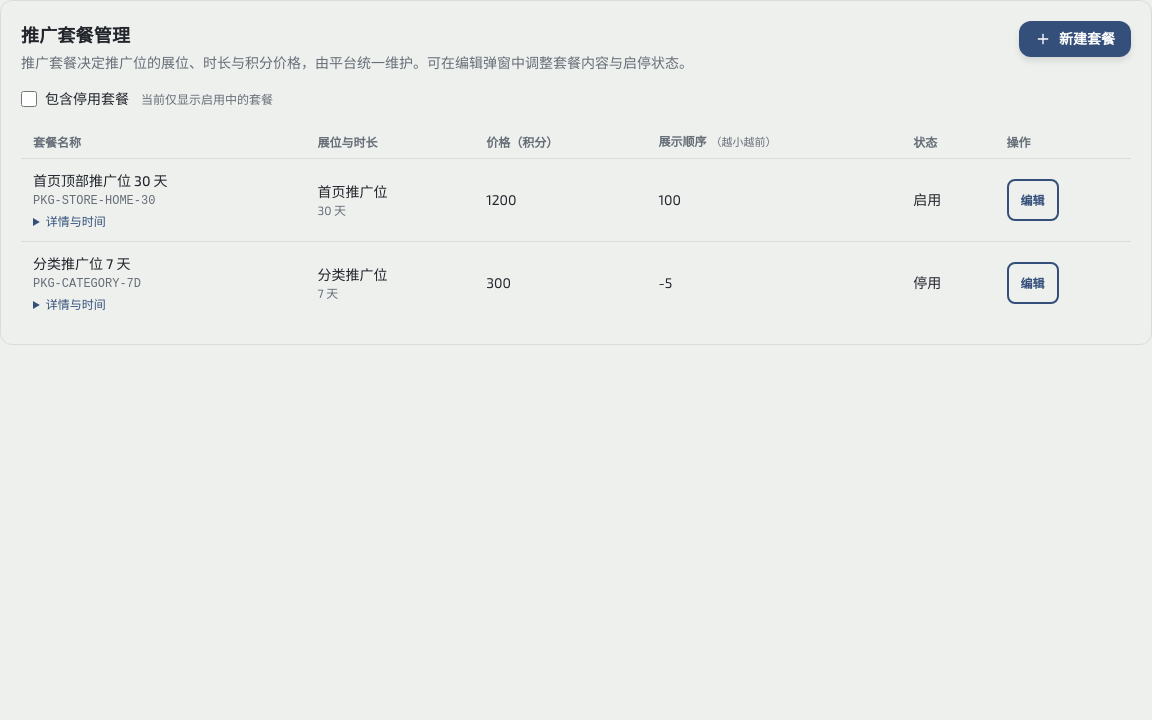
package dialogs — edit target switch › switching rows after a failed save drops the previous server error
Expected: the table named "推广套餐列表" is shown, [21, 125, 1131, 324]
Click the button with aria-label "编辑套餐 PKG-STORE-HOME-30（套餐 ID 11）" at (1033, 200), box [1007, 179, 1059, 221]
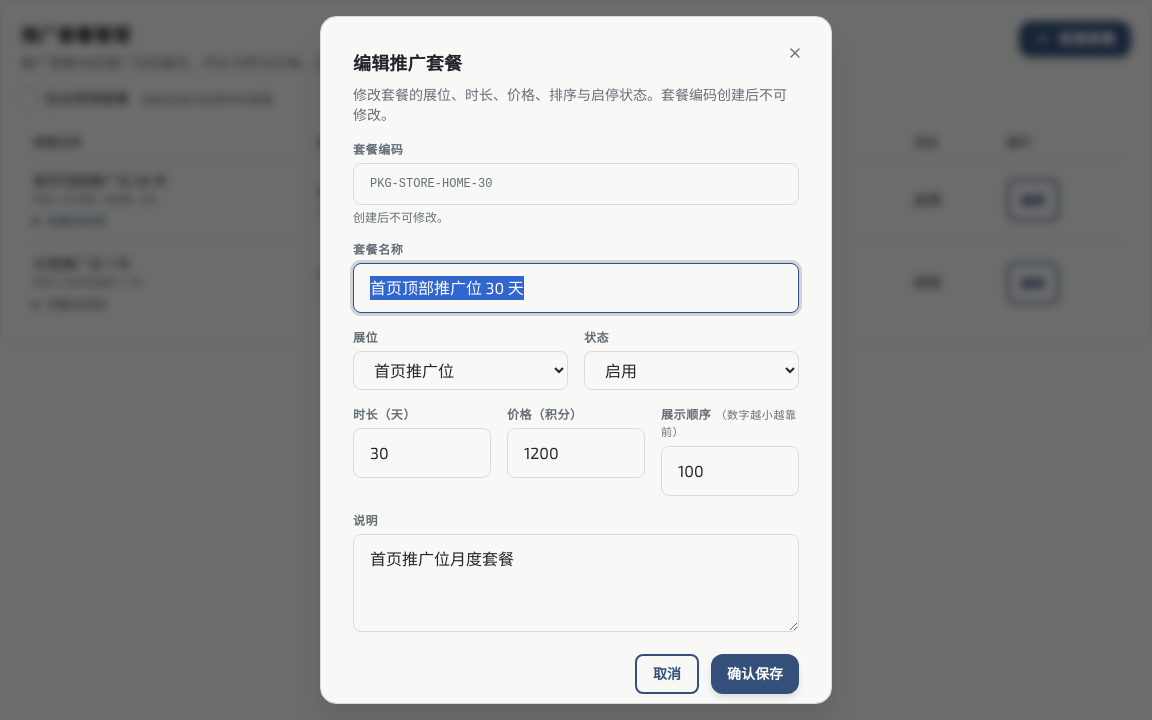
Click the button "确认保存" at (755, 674), box [711, 654, 799, 694]
(page scrolled)
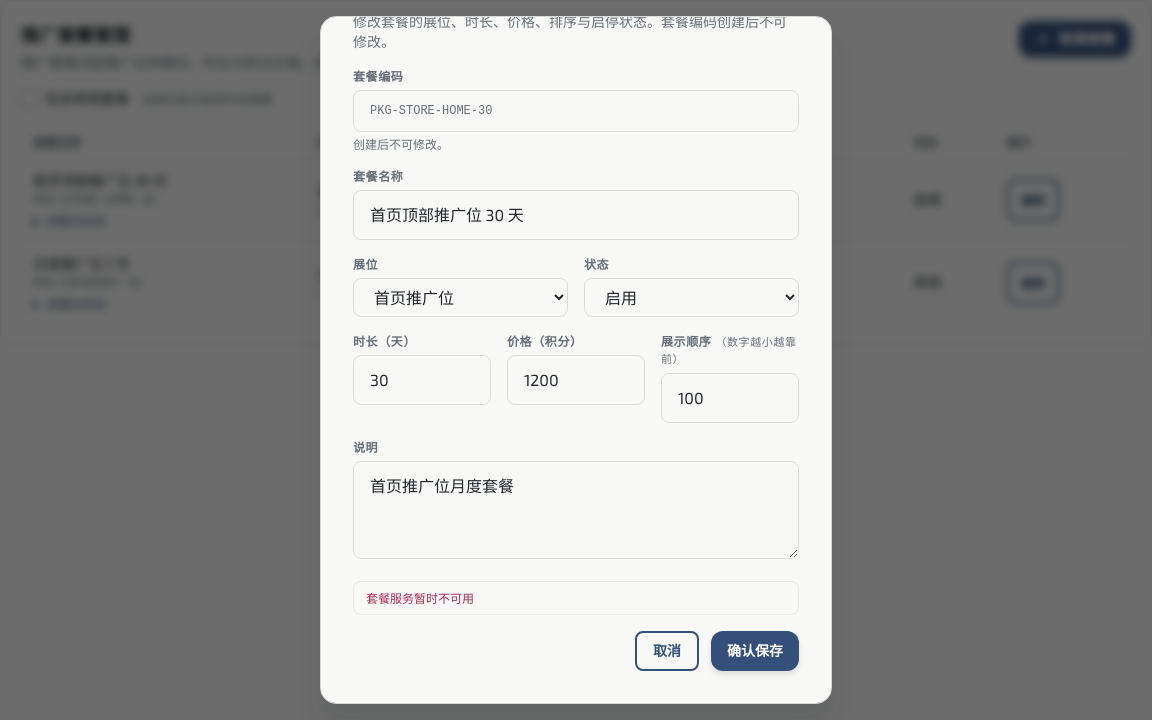
Now the dialog is shown, box [320, 16, 832, 704]
Now the message reads "套餐服务暂时不可用", box [366, 591, 474, 605]
// Switch to the other row — the stale server error must be gone.
Click the button "取消" at (667, 651), box [635, 631, 699, 671]
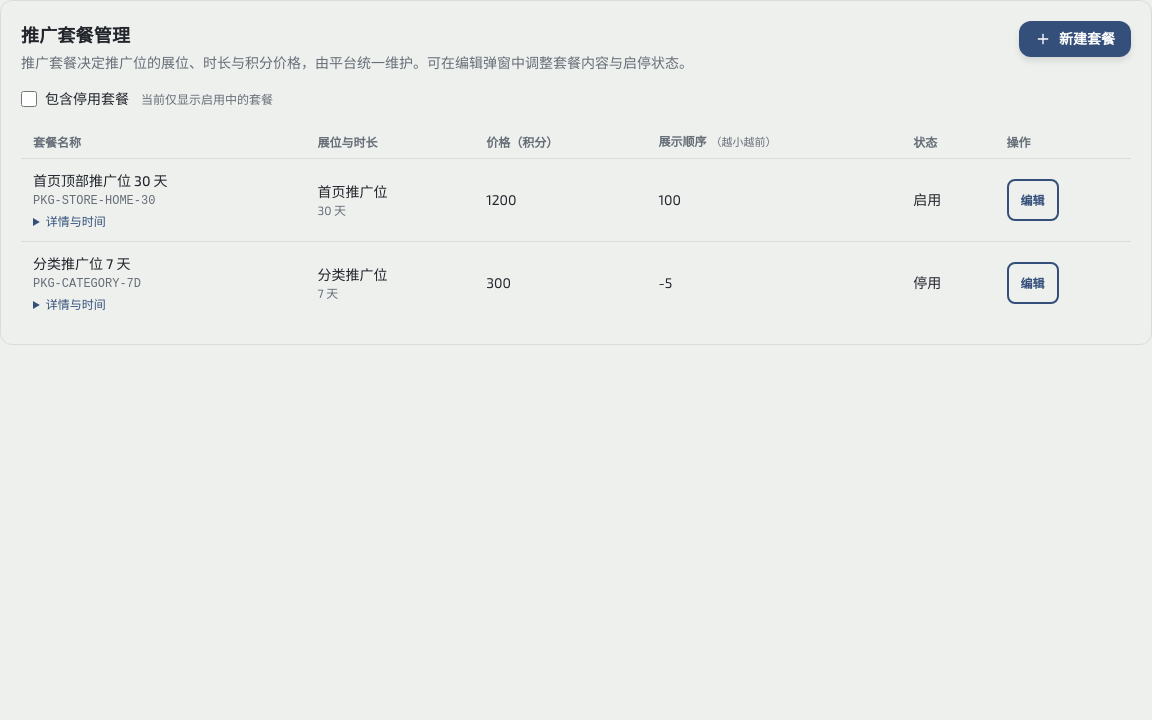
Click the button with aria-label "编辑套餐 PKG-CATEGORY-7D（套餐 ID 22）" at (1033, 283), box [1007, 262, 1059, 304]
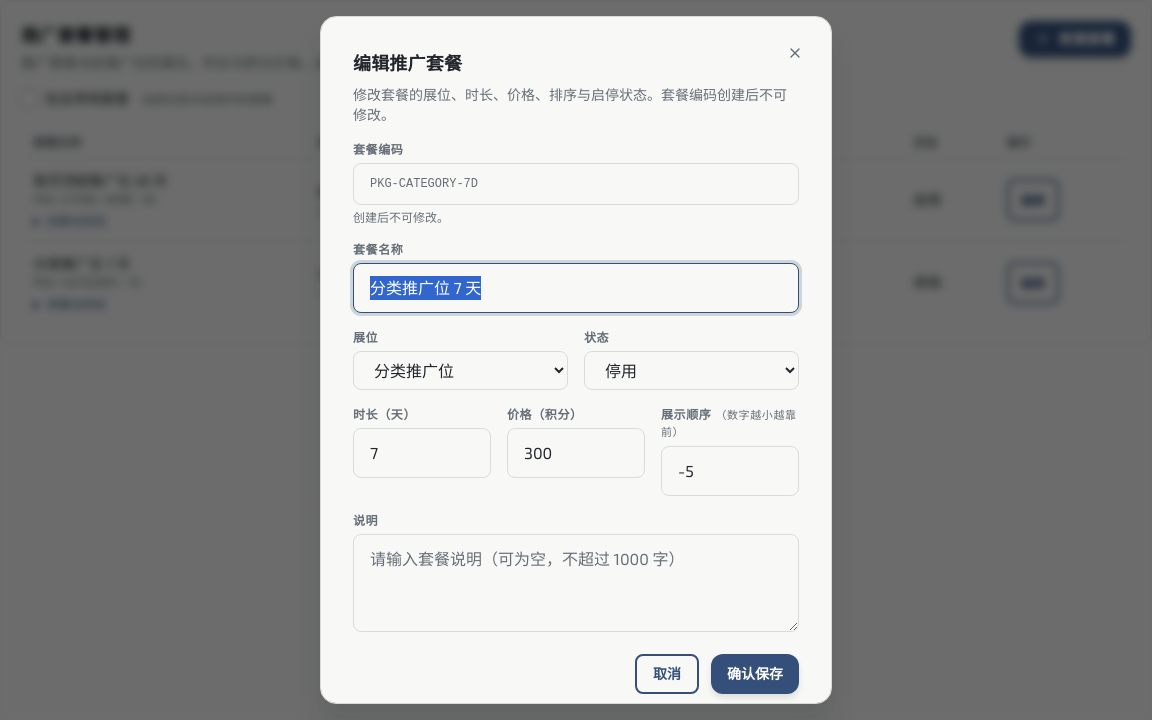
Expected: the message "套餐服务暂时不可用" is not shown
Now the field labelled "套餐名称" holds "分类推广位 7 天", box [353, 263, 799, 313]
